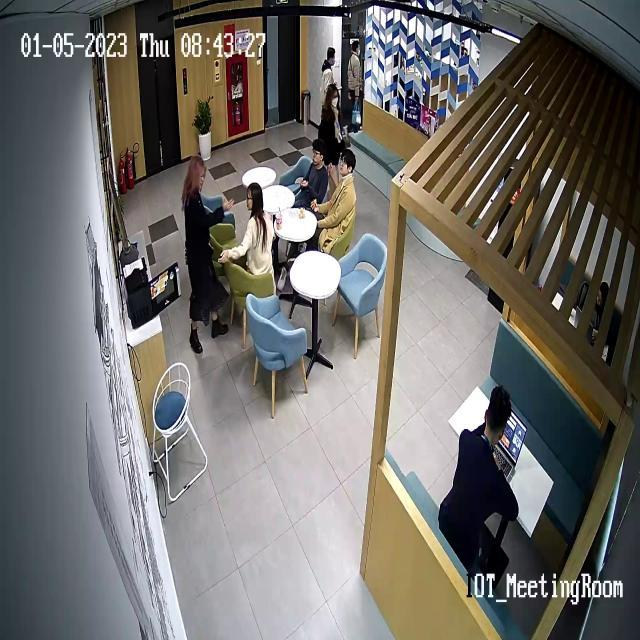person: (439, 386, 520, 598), (182, 154, 237, 353), (221, 182, 275, 285), (311, 147, 357, 258), (294, 138, 330, 209), (318, 83, 346, 170), (348, 41, 363, 129), (320, 47, 338, 118)
